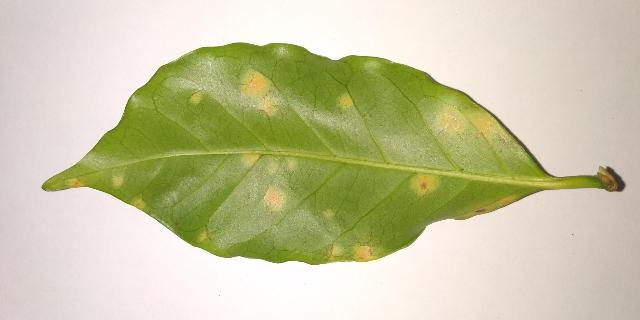miner: (466, 197, 525, 219), (411, 173, 439, 196), (243, 72, 269, 96), (350, 244, 379, 262), (472, 111, 495, 132), (440, 112, 462, 131), (264, 190, 283, 208), (65, 178, 89, 188), (328, 246, 341, 263), (244, 152, 258, 166), (261, 98, 274, 112), (132, 199, 143, 211), (268, 161, 279, 173), (112, 175, 122, 186), (341, 97, 352, 107), (199, 232, 209, 242), (192, 92, 201, 102), (323, 210, 333, 218), (288, 161, 294, 168), (535, 190, 543, 192), (532, 192, 535, 194), (526, 195, 529, 196), (530, 194, 531, 195)
